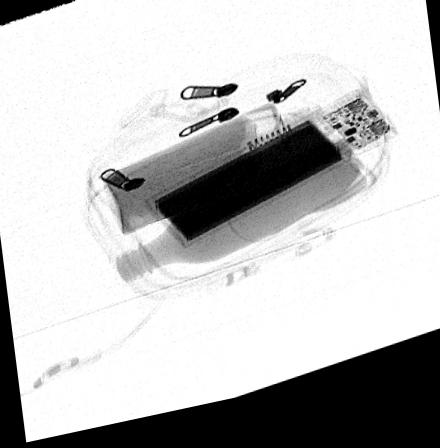Powerbank: (145, 101, 399, 257)
